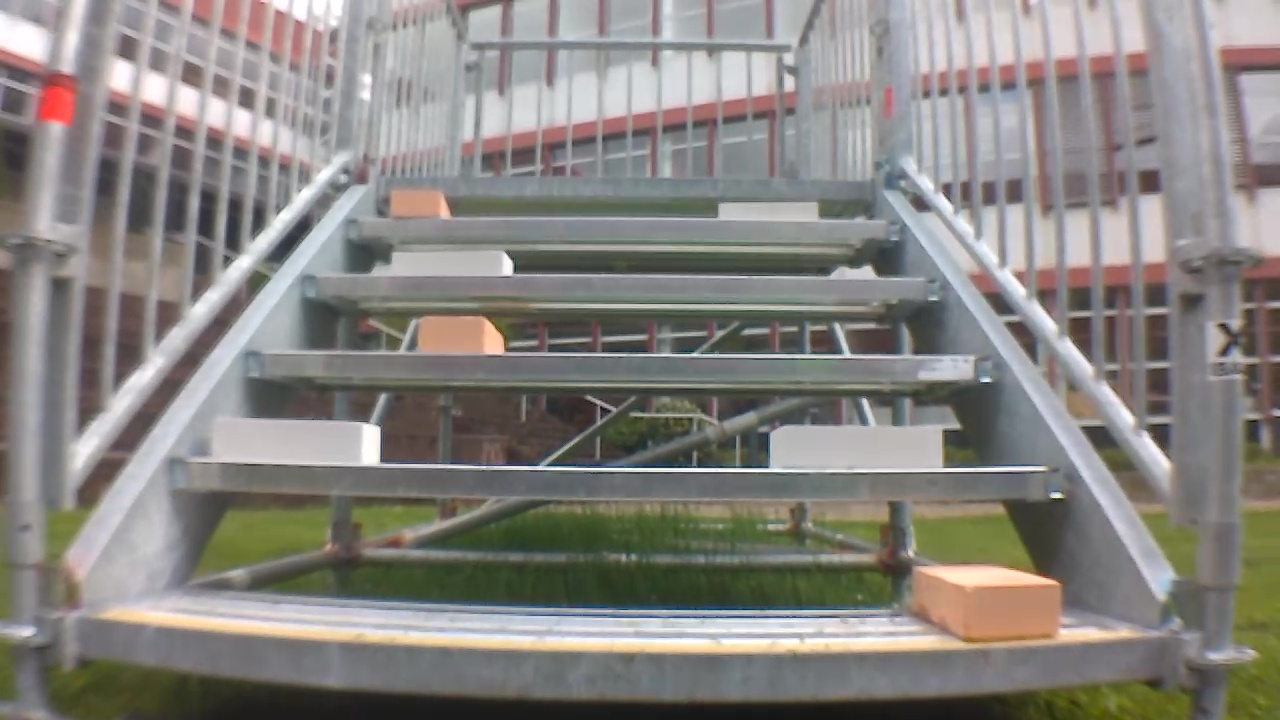brick: (913, 566, 1060, 641), (770, 426, 942, 470), (211, 418, 379, 463), (421, 318, 503, 354), (393, 250, 511, 275), (718, 202, 818, 220), (391, 189, 449, 217)
edge: (77, 616, 1169, 697), (167, 458, 1063, 499), (243, 351, 999, 382), (304, 274, 946, 300), (341, 218, 901, 240), (382, 176, 875, 198)
stairs: (7, 3, 1256, 715)
steps: (64, 168, 1176, 702)
